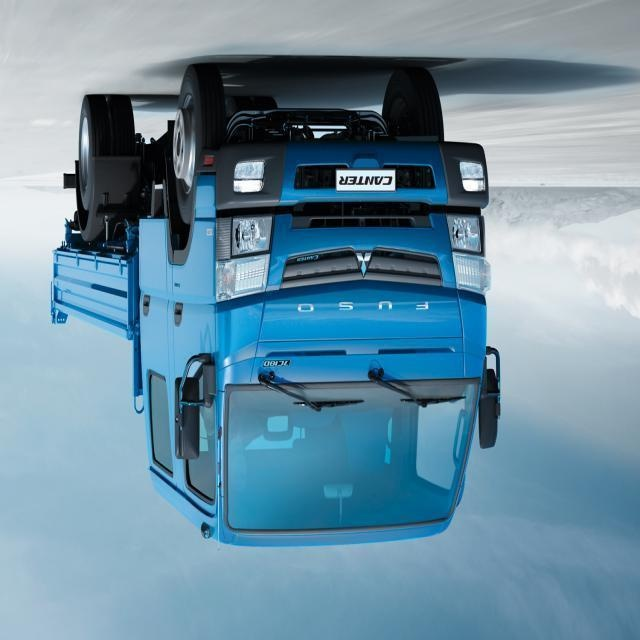Truck: (49, 66, 502, 549)
